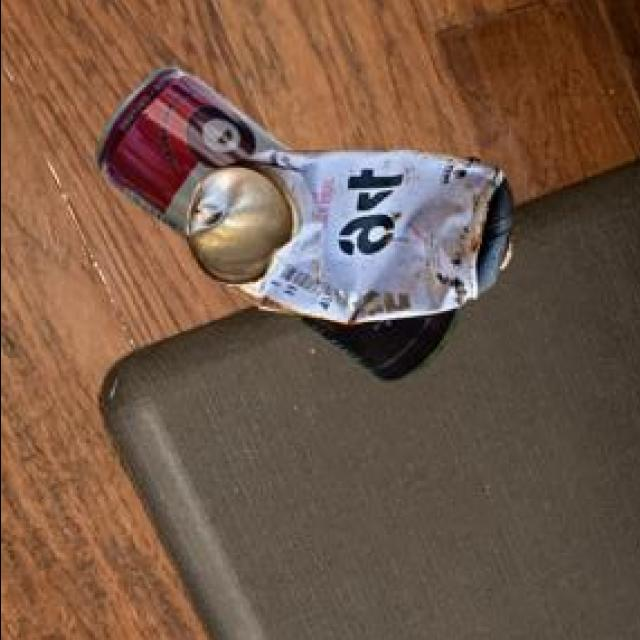logam: (97, 70, 462, 384), (189, 153, 516, 328)
